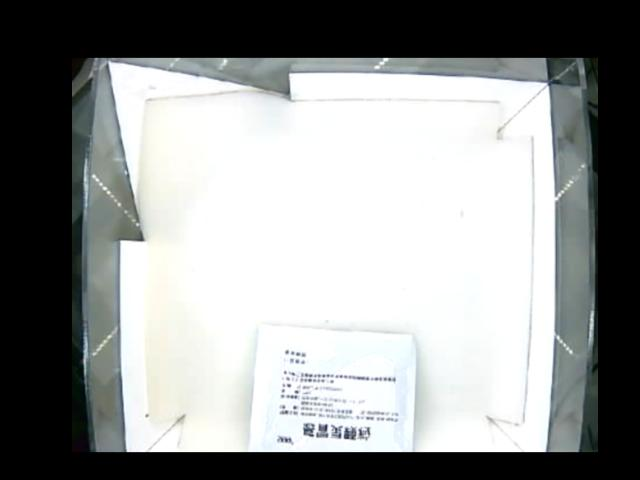Medicine: (250, 322, 417, 452)
